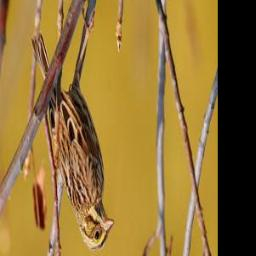Sparrow: (29, 0, 113, 255)
